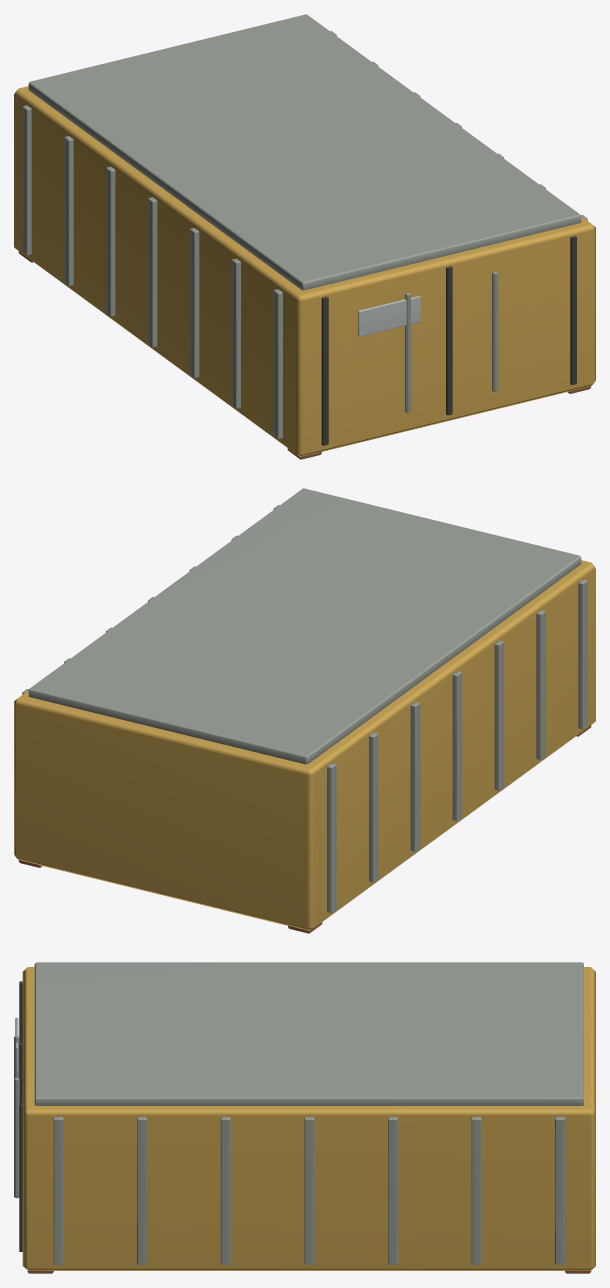
File: QuarryContainerB.glb
3 renders of one model, top to bottom at view 1: azimuth 30°, elevation 25°; view 2: azimuth 150°, elevation 25°; view 3: azimuth 270°, elevation 25°, orthographic.
Visible parts, largest first — view 1: Freight container.001, Inset roof.001, Pressed side rib.018, Faded freight identity plate.001, Pressed side rib.014, Pressed side rib.016, Pressed side rib.020, Pressed side rib.022, Pressed side rib.024, Pressed side rib.026, Door vertical seam.003, Door vertical seam.004 (+3 smaller); view 2: Freight container.001, Inset roof.001, Pressed side rib.022, Pressed side rib.014, Pressed side rib.016, Pressed side rib.018, Pressed side rib.020, Pressed side rib.024, Pressed side rib.026; view 3: Freight container.001, Inset roof.001, Pressed side rib.021, Pressed side rib.025, Pressed side rib.015, Pressed side rib.017, Pressed side rib.019, Pressed side rib.027, Pressed side rib.023, Door locking bar.003, Door vertical seam.005.
Boxes of the visible parts, x1,y1,x2,y2 form: Freight container.001: (14,86,595,456); Inset roof.001: (28,14,581,290); Pressed side rib.018: (189,228,199,377); Faded freight identity plate.001: (358,296,420,336); Pressed side rib.014: (273,289,282,439); Pressed side rib.016: (231,258,240,408); Pressed side rib.020: (148,197,157,347); Pressed side rib.022: (106,166,115,316); Pressed side rib.024: (64,136,73,285); Pressed side rib.026: (22,105,31,255); Door vertical seam.003: (321,296,328,445); Door vertical seam.004: (446,266,452,415); Freight container.001: (14,560,595,930); Inset roof.001: (28,488,581,764); Pressed side rib.022: (410,702,420,851); Pressed side rib.014: (578,579,587,729); Pressed side rib.016: (536,610,545,759); Pressed side rib.018: (494,640,503,790); Pressed side rib.020: (452,671,461,821); Pressed side rib.024: (369,732,378,882); Pressed side rib.026: (327,763,336,913); Freight container.001: (22,967,595,1270); Inset roof.001: (34,962,583,1105); Pressed side rib.021: (304,1117,314,1264); Pressed side rib.025: (471,1117,481,1264); Pressed side rib.015: (53,1117,63,1264); Pressed side rib.017: (137,1117,147,1264); Pressed side rib.019: (220,1117,230,1264); Pressed side rib.027: (555,1117,565,1264); Pressed side rib.023: (388,1117,397,1264); Door locking bar.003: (14,1077,19,1198); Door vertical seam.005: (19,1102,22,1251).
Size of the model in its own units: 3 by 1.6 by 4.87.
